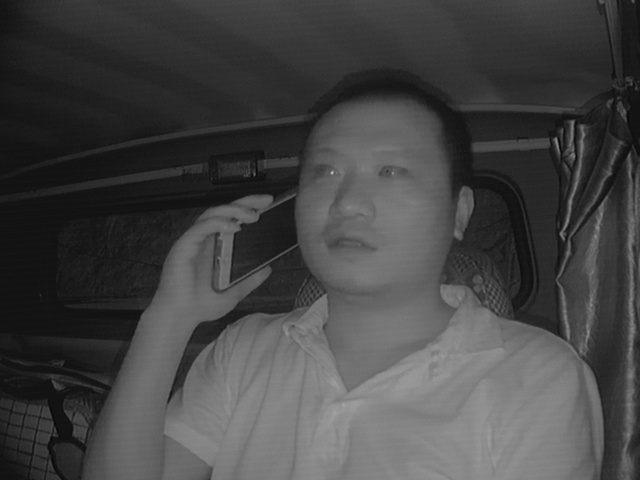hand: (165, 194, 272, 320)
